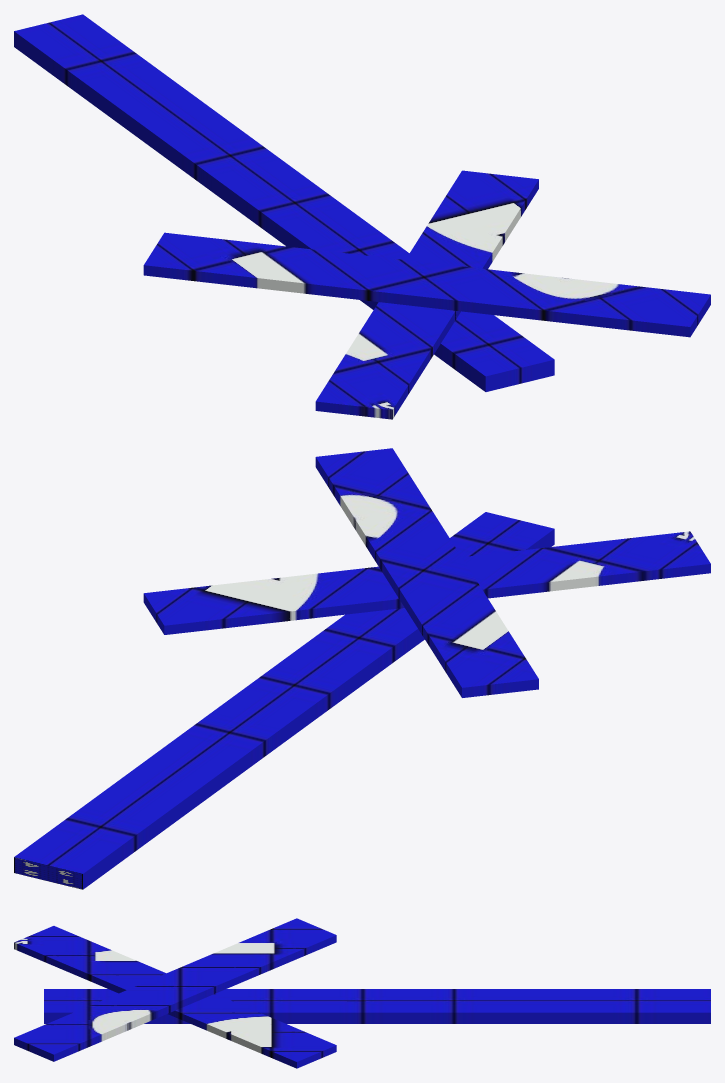
Rendered from railsign01.glb.
The picture shows the model from 3 angles, top to bottom: view 1: azimuth 30°, elevation 25°; view 2: azimuth 150°, elevation 25°; view 3: azimuth 270°, elevation 25°; orthographic projection. The views are drawn at different scales.
Size of the model in its own units: 34.84 by 3.03 by 75.25.
1 material, 1 textured.
